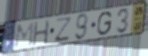3: (116, 7, 131, 35)
9: (74, 12, 90, 41)
G: (96, 10, 114, 37)
H: (31, 18, 51, 48)
M: (13, 21, 35, 49)
Z: (53, 15, 73, 43)
